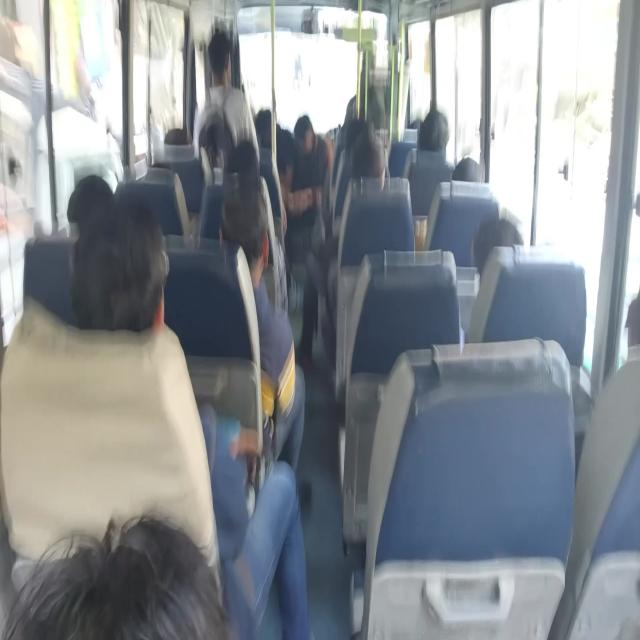person: (27, 511, 217, 639), (94, 220, 170, 316), (258, 103, 304, 202), (226, 192, 272, 278), (475, 222, 539, 281), (415, 105, 460, 161), (347, 140, 394, 193), (63, 170, 102, 215), (230, 134, 265, 182), (452, 159, 488, 195), (162, 127, 196, 160), (210, 34, 230, 84), (148, 151, 171, 188), (342, 117, 372, 143), (295, 111, 315, 149), (403, 110, 428, 127)
